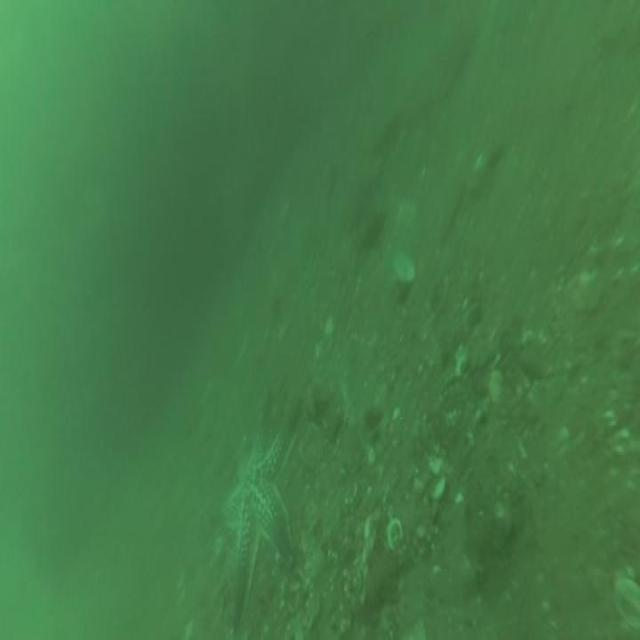echinus: (358, 208, 388, 258)
starfish: (218, 402, 300, 638)
